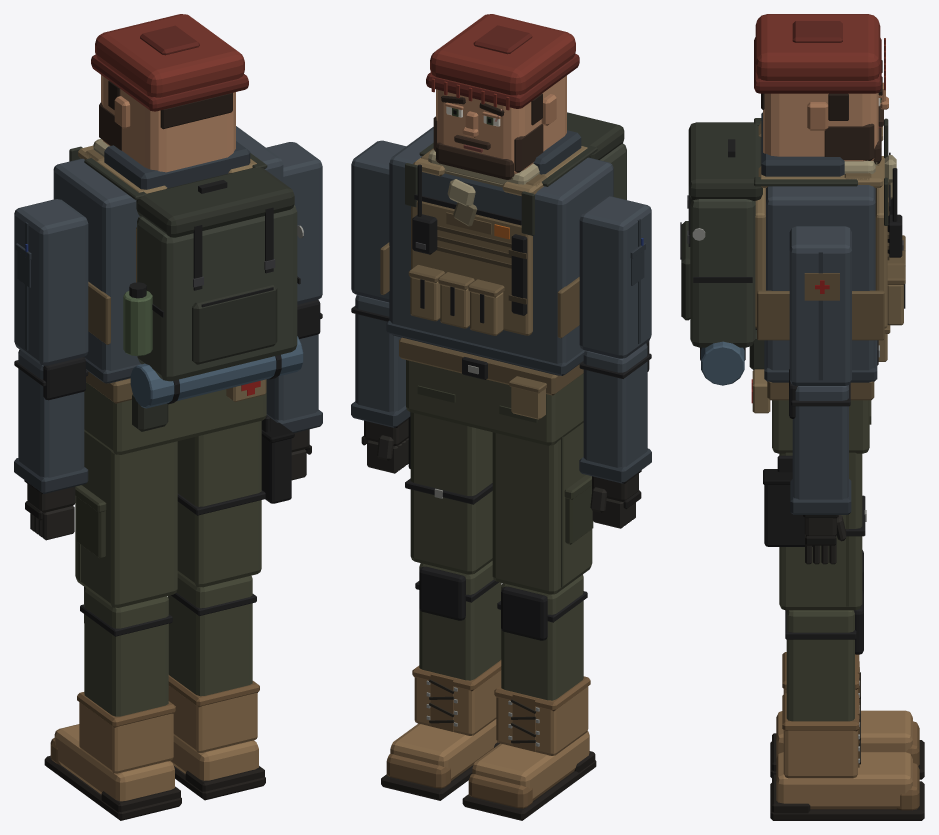
Rendered from superviviente.glb.
The picture shows the model from 3 angles, left to right: view 1: azimuth 30°, elevation 25°; view 2: azimuth 150°, elevation 25°; view 3: azimuth 270°, elevation 25°; orthographic projection. The views are drawn at different scales.
Visible parts, largest first — view 1: M_Mochila_3, M_LeftUpperLeg_1, M_RightUpperLeg_2, M_Mochila_1, M_LeftUpperArm_1, M_UpperTorso_4, M_LeftLowerLeg_1, M_RightLowerLeg_1, M_Head_4, M_LowerTorso_2, M_LeftLowerArm_1, M_Head_9 (+34 smaller); view 2: M_UpperTorso_4, M_LeftUpperLeg_1, M_RightUpperLeg_2, M_LeftUpperArm_1, M_UpperTorso_9, M_LowerTorso_2, M_Head_4, M_LeftLowerArm_1, M_LeftLowerLeg_1, M_RightLowerLeg_1, M_RightUpperArm_1, M_RightLowerArm_1 (+38 smaller); view 3: M_Mochila_3, M_UpperTorso_4, M_RightUpperArm_1, M_Head_4, M_RightLowerLeg_1, M_Mochila_1, M_RightLowerArm_1, M_RightUpperLeg_2, M_RightFoot_2, M_Head_9, M_UpperTorso_7, M_UpperTorso_9 (+27 smaller).
Part boxes in pixels (bbox=[...]): M_Mochila_3: bbox=[137, 205, 297, 381]; M_LeftUpperLeg_1: bbox=[75, 431, 177, 607]; M_RightUpperLeg_2: bbox=[177, 421, 261, 587]; M_Mochila_1: bbox=[136, 167, 294, 364]; M_LeftUpperArm_1: bbox=[14, 199, 88, 365]; M_UpperTorso_4: bbox=[53, 126, 283, 383]; M_LeftLowerLeg_1: bbox=[84, 587, 168, 716]; M_RightLowerLeg_1: bbox=[168, 573, 252, 696]; M_Head_4: bbox=[95, 14, 244, 97]; M_LowerTorso_2: bbox=[84, 379, 266, 454]; M_LeftLowerArm_1: bbox=[18, 349, 84, 477]; M_Head_9: bbox=[101, 75, 235, 172]; M_UpperTorso_4: bbox=[389, 127, 613, 375]; M_LeftUpperLeg_1: bbox=[492, 423, 592, 594]; M_RightUpperLeg_2: bbox=[410, 412, 492, 574]; M_LeftUpperArm_1: bbox=[579, 196, 651, 358]; M_UpperTorso_9: bbox=[410, 146, 587, 335]; M_LowerTorso_2: bbox=[406, 360, 583, 445]; M_Head_4: bbox=[430, 14, 575, 110]; M_LeftLowerArm_1: bbox=[583, 343, 647, 467]; M_LeftLowerLeg_1: bbox=[501, 574, 583, 700]; M_RightLowerLeg_1: bbox=[419, 561, 501, 680]; M_RightUpperArm_1: bbox=[351, 140, 405, 302]; M_RightLowerArm_1: bbox=[355, 294, 405, 411]; M_Mochila_3: bbox=[690, 198, 755, 347]; M_UpperTorso_4: bbox=[766, 185, 875, 382]; M_RightUpperArm_1: bbox=[789, 226, 851, 385]; M_Head_4: bbox=[755, 14, 885, 90]; M_RightLowerLeg_1: bbox=[786, 610, 854, 721]; M_Mochila_1: bbox=[681, 122, 762, 320]; M_RightLowerArm_1: bbox=[792, 385, 848, 499]; M_RightUpperLeg_2: bbox=[779, 452, 862, 610]; M_RightFoot_2: bbox=[776, 752, 912, 809]; M_Head_9: bbox=[763, 93, 878, 161]; M_UpperTorso_7: bbox=[757, 173, 905, 340]; M_UpperTorso_9: bbox=[755, 121, 903, 328].
Bounding box in the file's own units: 2.25 × 5.62 × 1.65.
